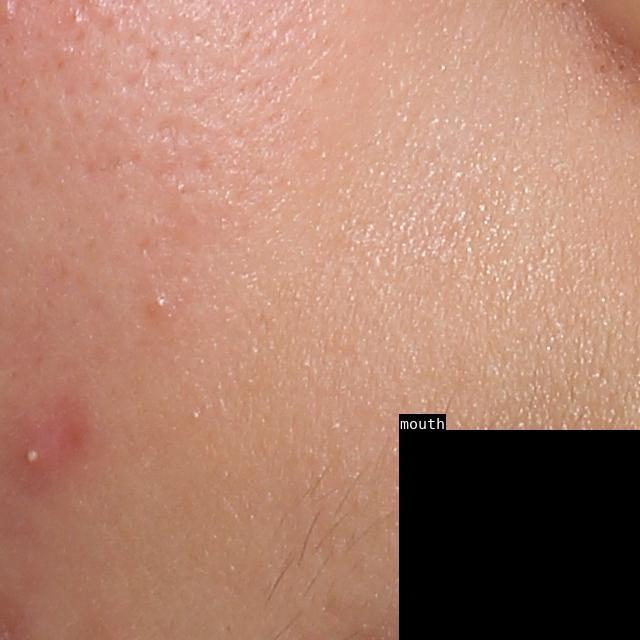comedo: (143, 286, 174, 323)
pustule: (16, 432, 62, 480)
